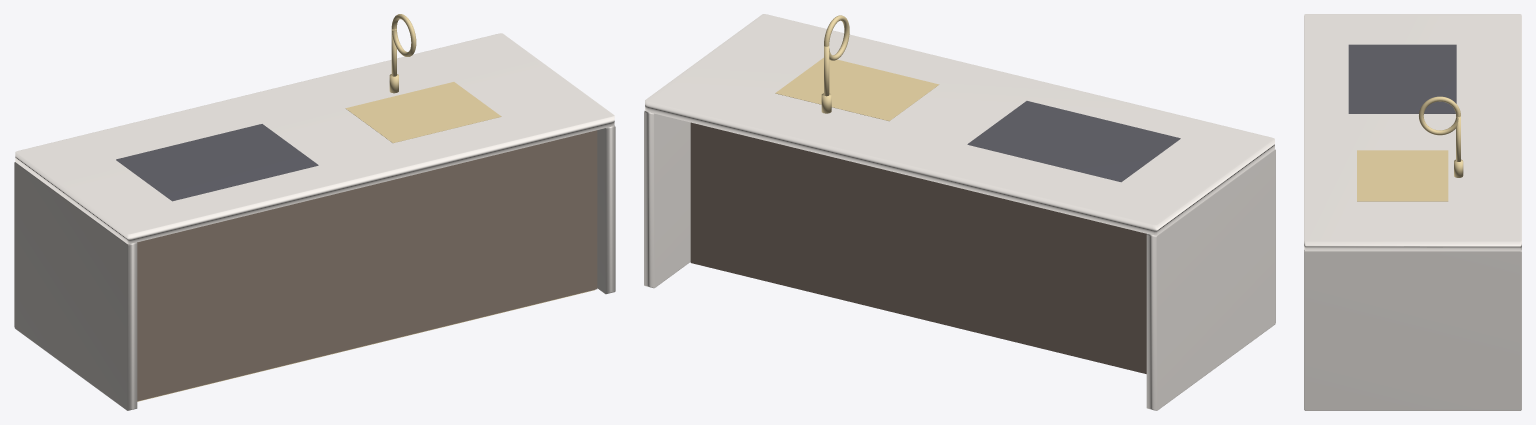
File: kitchen_island.glb
The picture shows the model from 3 angles, left to right: view 1: azimuth 30°, elevation 25°; view 2: azimuth 150°, elevation 25°; view 3: azimuth 270°, elevation 25°; orthographic projection. The views are drawn at different scales.
Parts seen in each view (by area): view 1: Cube.003, Cube, Cube.001, Cube.005, Cube.006, Cube.002; view 2: Cube.003, Cube, Cube.001, Cube.005, Cube.002, Cube.006; view 3: Cube, Cube.002, Cube.005, Cube.006, Torus, Cylinder.001.
Boxes of the visible parts, x1,y1,x2,y2 form: Cube.003: [137, 130, 597, 401]; Cube: [15, 33, 614, 244]; Cube.001: [14, 162, 137, 410]; Cube.005: [116, 124, 318, 201]; Cube.006: [345, 82, 501, 143]; Cube.002: [597, 125, 615, 294]; Cube.003: [690, 122, 1146, 373]; Cube: [645, 14, 1274, 235]; Cube.001: [1146, 149, 1275, 410]; Cube.005: [967, 101, 1180, 182]; Cube.002: [644, 111, 690, 288]; Cube.006: [775, 57, 939, 121]; Cube: [1304, 14, 1521, 251]; Cube.002: [1304, 250, 1521, 410]; Cube.005: [1348, 44, 1456, 113]; Cube.006: [1357, 150, 1448, 201]; Torus: [1419, 96, 1460, 135]; Cylinder.001: [1456, 116, 1460, 161].
Bounding box in the file's own units: 2.6 × 1.32 × 1.05.
